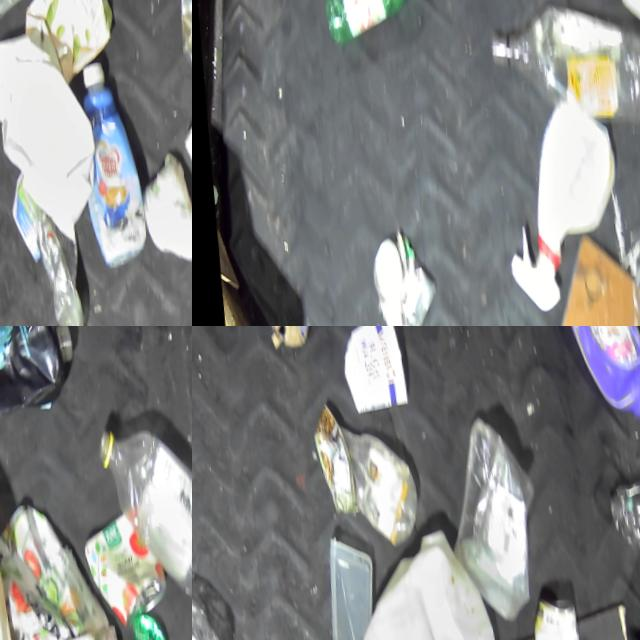can: (76, 516, 163, 627), (354, 224, 433, 326), (301, 412, 349, 517), (171, 92, 192, 208), (518, 610, 573, 640), (119, 615, 160, 640)
milk_jug: (337, 526, 513, 640)
non_white_jug: (62, 47, 144, 267), (0, 326, 79, 441), (555, 326, 640, 428)
plastic_bottle: (85, 415, 192, 605), (481, 12, 640, 118), (340, 425, 415, 538)
